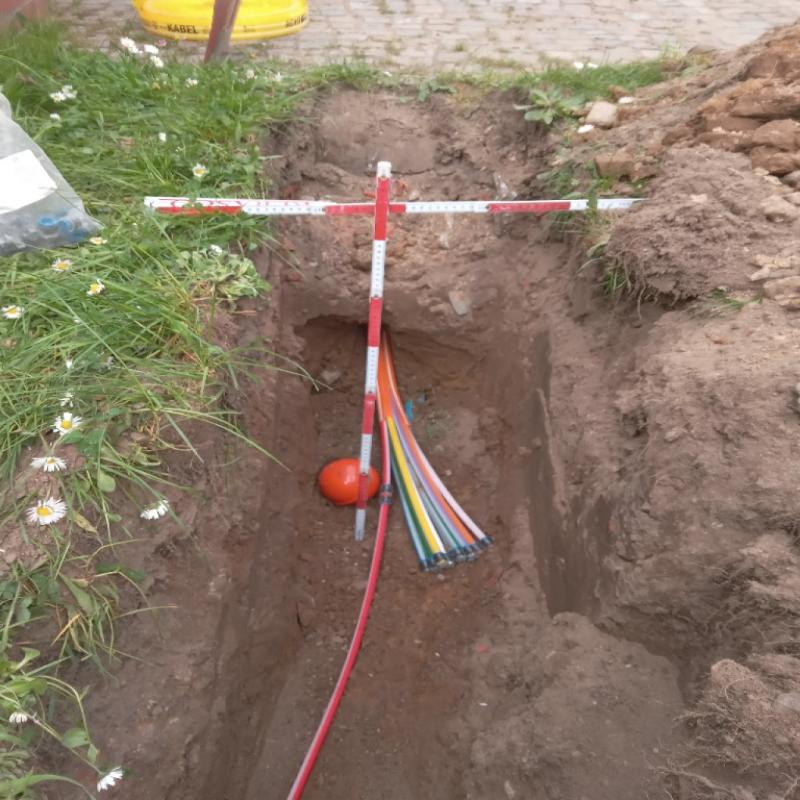Kugelmarker: (318, 461, 379, 505)
Orang-Speednetrohrchen: (372, 321, 496, 581)
